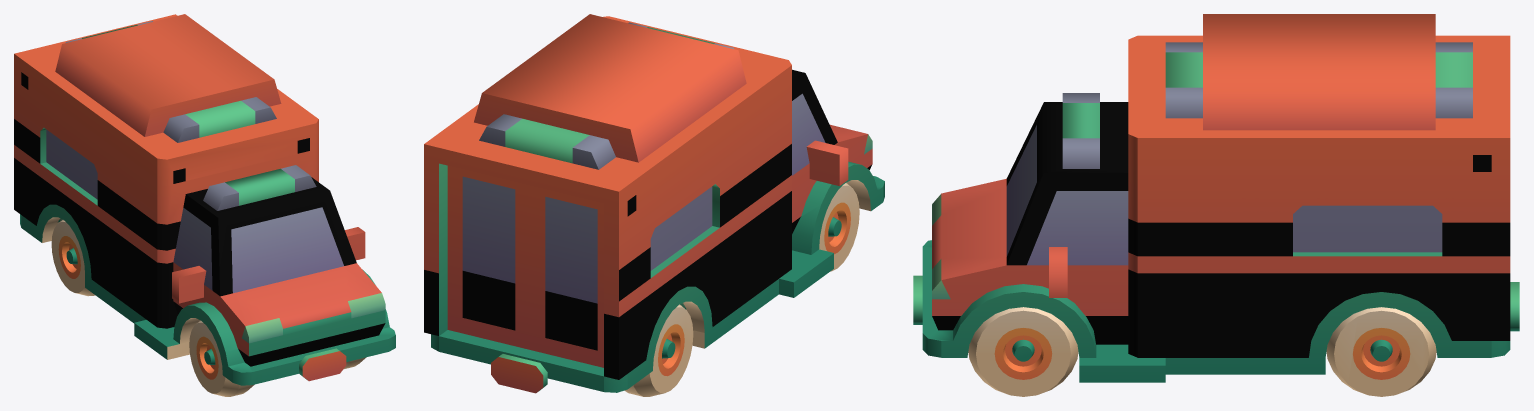
Rendered from ambulance.glb.
The picture shows the model from 3 angles, left to right: view 1: azimuth 30°, elevation 25°; view 2: azimuth 150°, elevation 25°; view 3: azimuth 270°, elevation 25°; orthographic projection. The views are drawn at different scales.
Visible parts, largest first — view 1: body, wheel-front-right, wheel-back-right; view 2: body, door-left, door-right, wheel-back-right, wheel-front-right; view 3: body, wheel-back-left, wheel-front-left.
Part boxes in pixels (left/top/right/bottom): body: left=14, top=14, right=395, bottom=385; wheel-front-right: left=189, top=320, right=254, bottom=396; wheel-back-right: left=51, top=219, right=95, bottom=296; body: left=424, top=14, right=884, bottom=393; door-left: left=447, top=165, right=530, bottom=349; door-right: left=530, top=186, right=603, bottom=367; wheel-back-right: left=624, top=304, right=693, bottom=396; wheel-front-right: left=819, top=183, right=859, bottom=271; body: left=913, top=14, right=1519, bottom=382; wheel-back-left: left=1326, top=307, right=1436, bottom=396; wheel-front-left: left=968, top=307, right=1078, bottom=396.
Bounding box in the file's own units: 1.5 × 1.8 × 3.25.
Materials: 1 (1 with a texture image).
